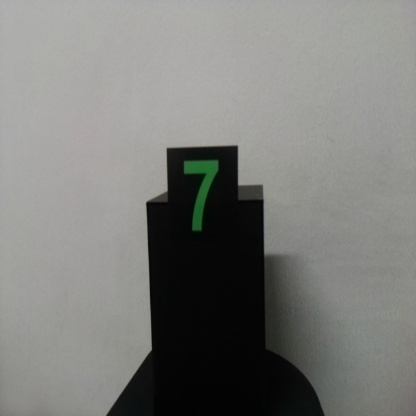id_7: (167, 148, 238, 259)
